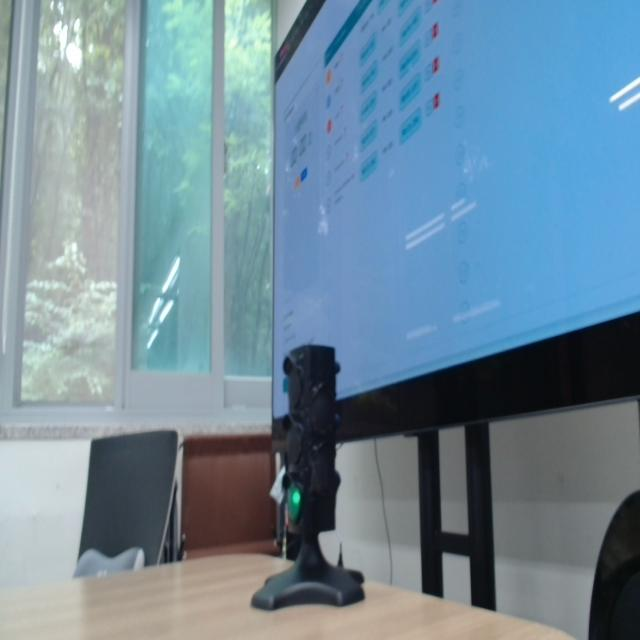green_light: (288, 487, 302, 523), (292, 490, 300, 504)
